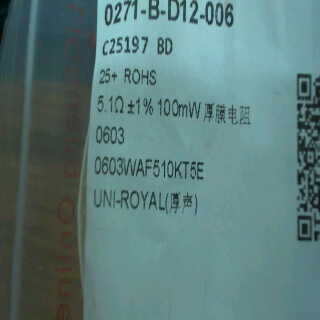5.1R: (94, 88, 125, 123)
